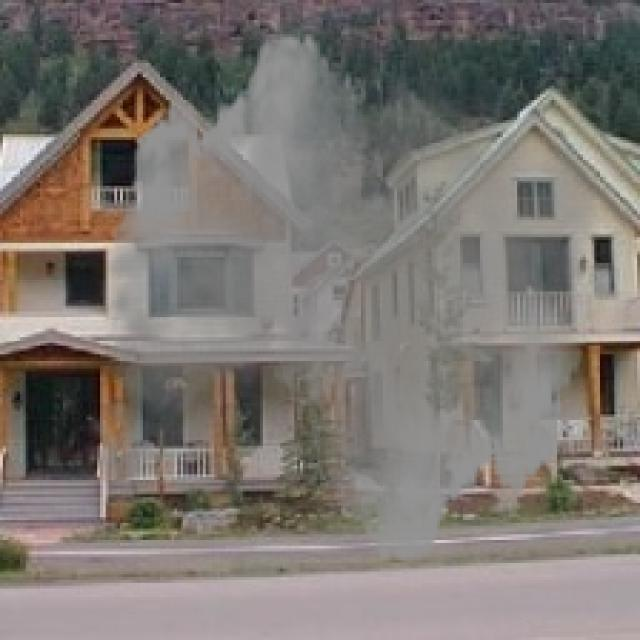Smoke: (69, 14, 612, 580)
